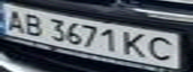1: (96, 25, 121, 53)
3: (42, 16, 69, 43)
6: (63, 20, 84, 46)
7: (78, 23, 100, 48)
A: (0, 6, 30, 33)
B: (18, 11, 48, 37)
C: (145, 34, 184, 63)
K: (121, 29, 151, 58)
